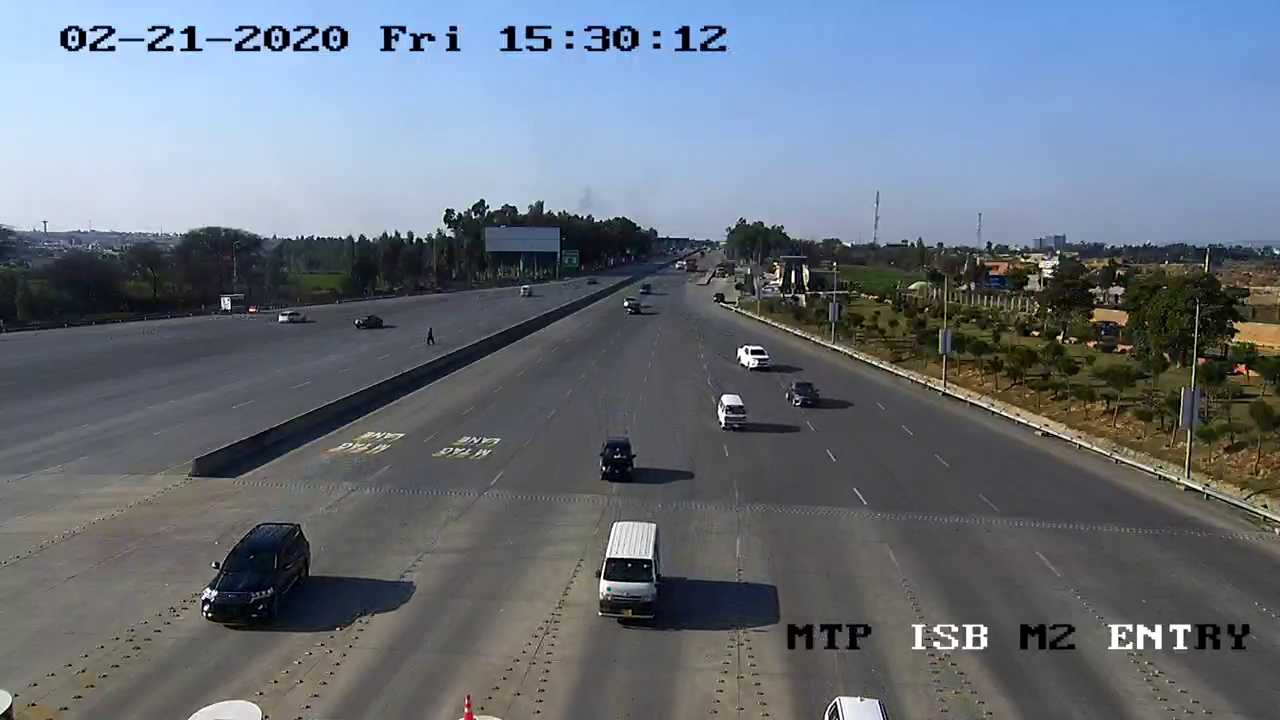f1: (183, 514, 322, 638), (703, 383, 757, 437), (591, 429, 642, 486)
f2: (586, 498, 680, 632)
